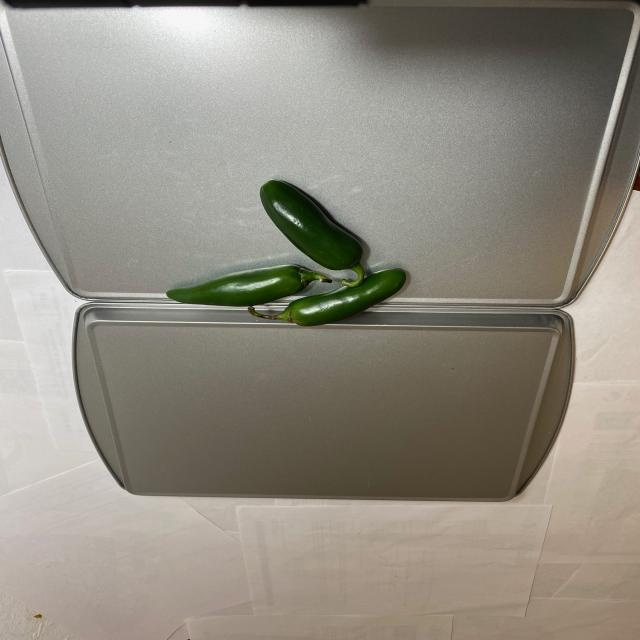chilli: (160, 174, 422, 330)
